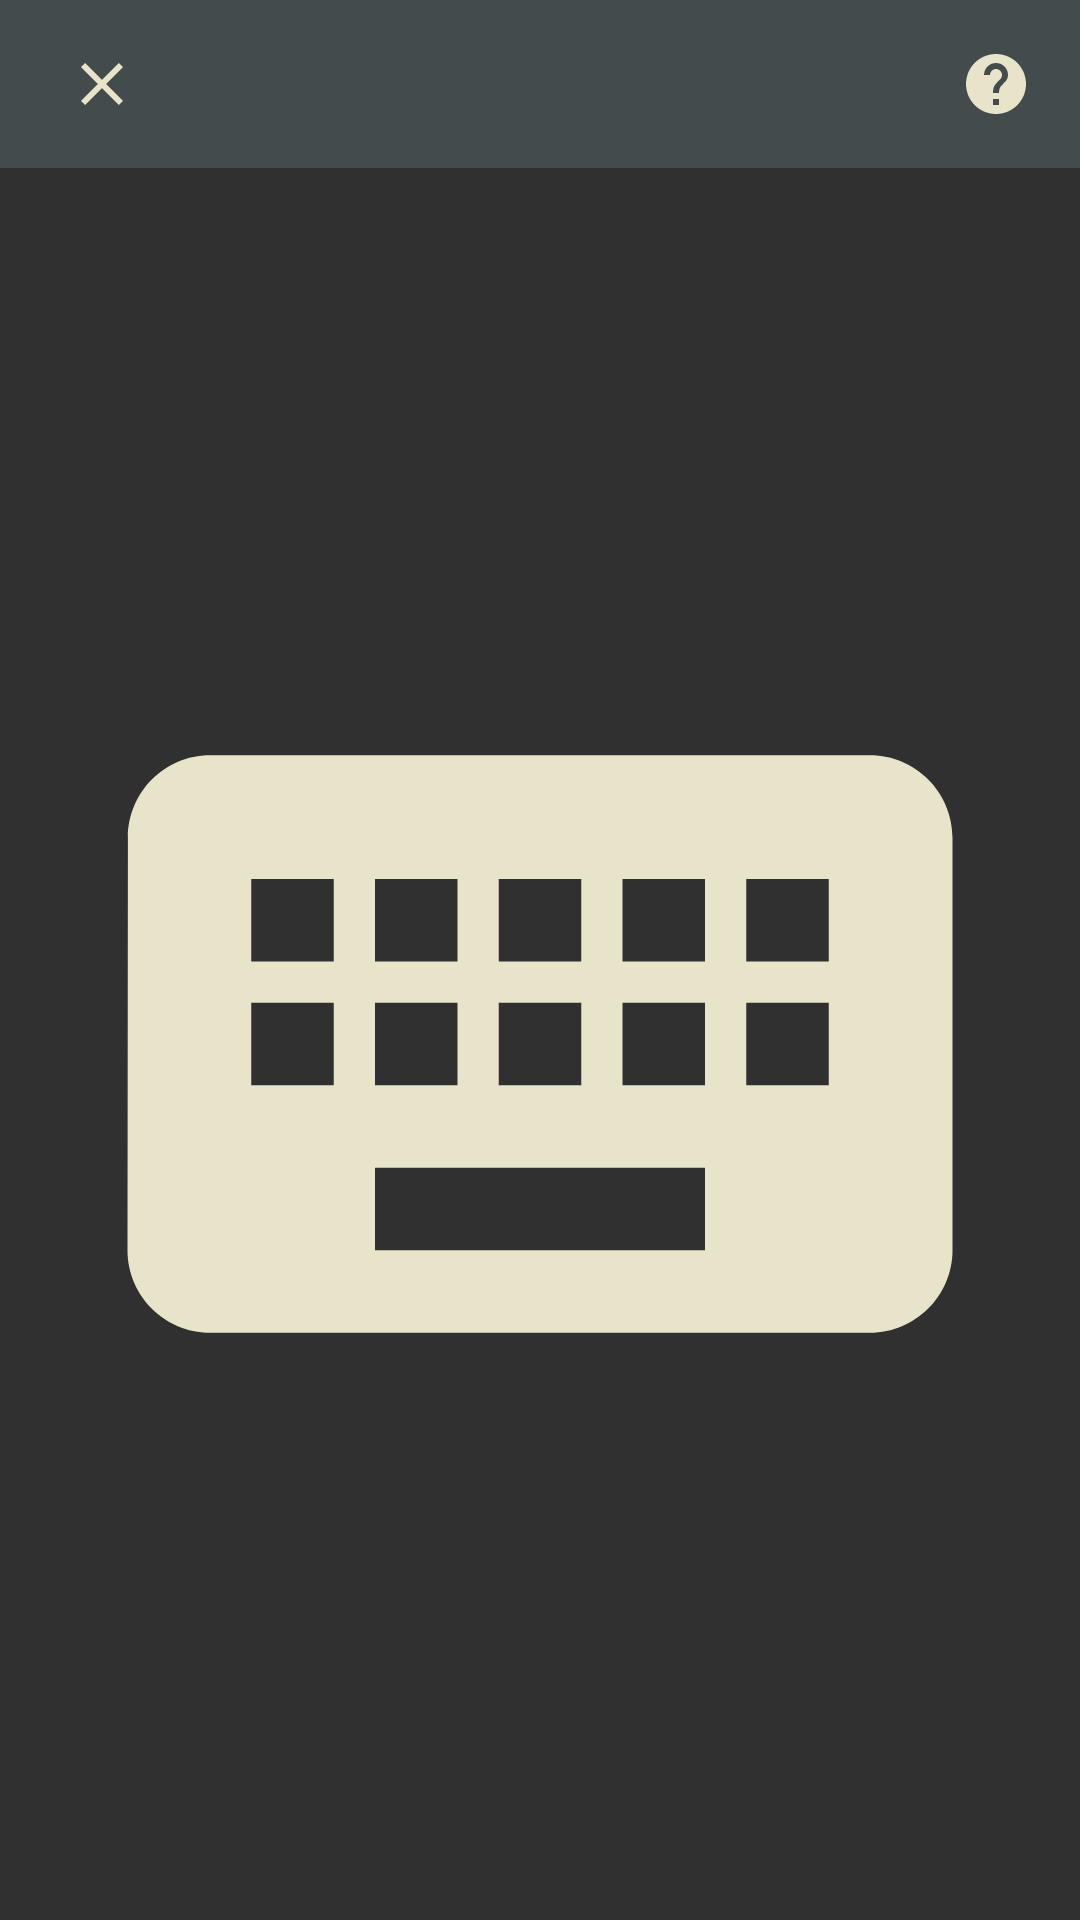

Screen size 1080×1920. Icon name, then its center in pixels as (x,y):
help: (996,84)
